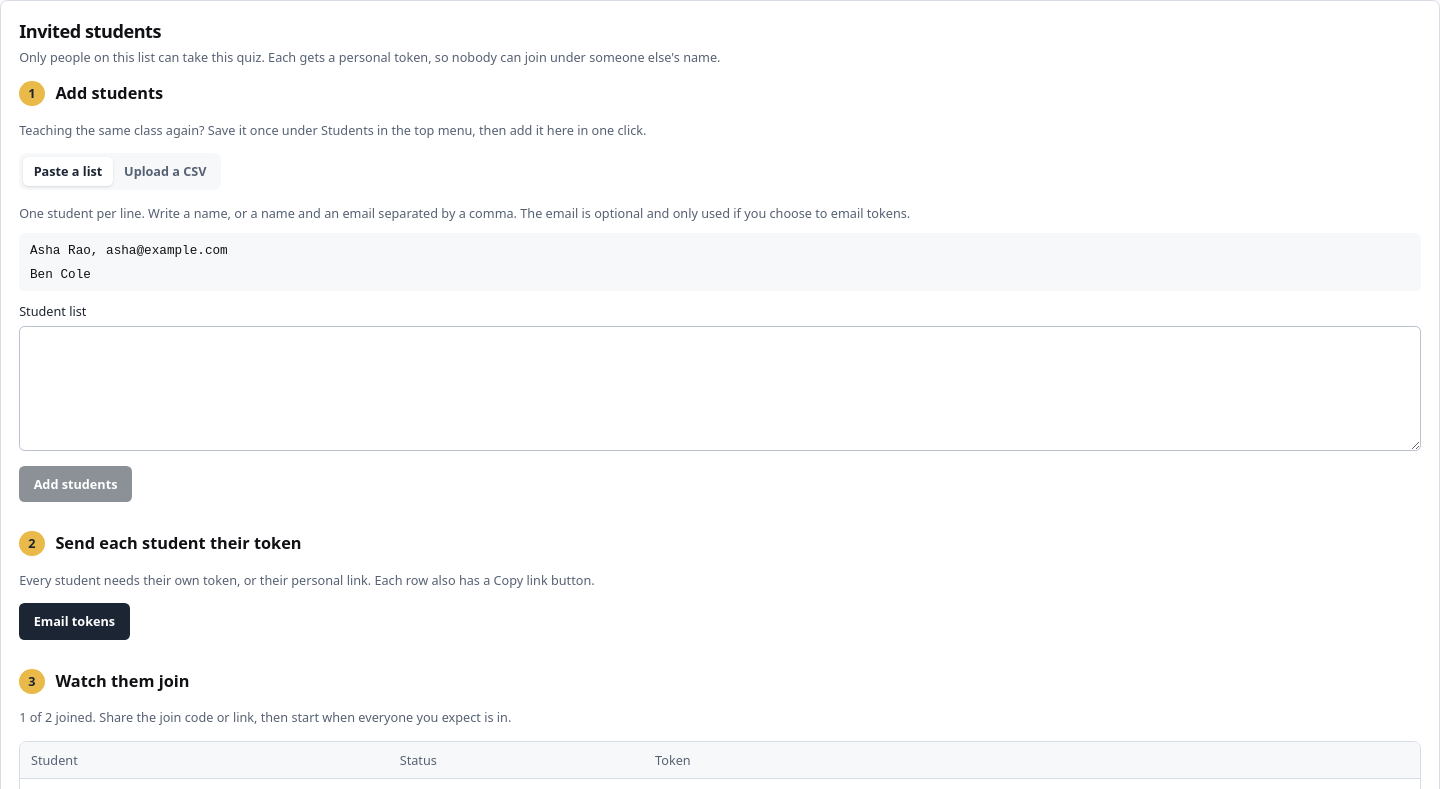
RosterPanel › the invite flow › explains the CSV columns on the upload tab and offers a sample
What coordinates should you click on to do the following:
click the tab "Upload a CSV"
I would click on:
 (165, 171)
Its box is left=113, top=157, right=218, bottom=186.
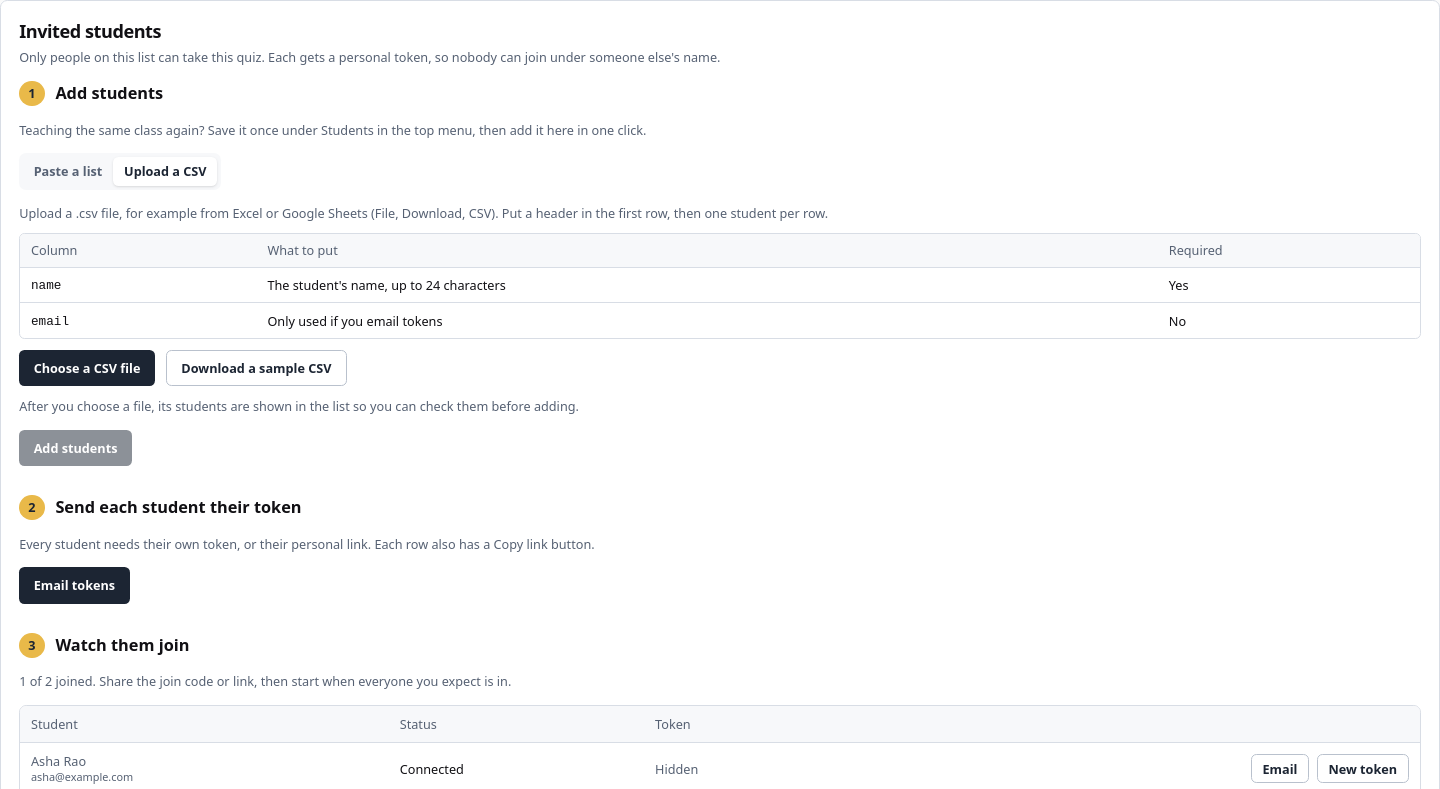
Expected: the text "name" is shown, left=31, top=278, right=61, bottom=293
Expected: the text "email" is shown, left=31, top=314, right=69, bottom=328
Expected: the button "Download a sample CSV" is shown, left=166, top=350, right=347, bottom=386
